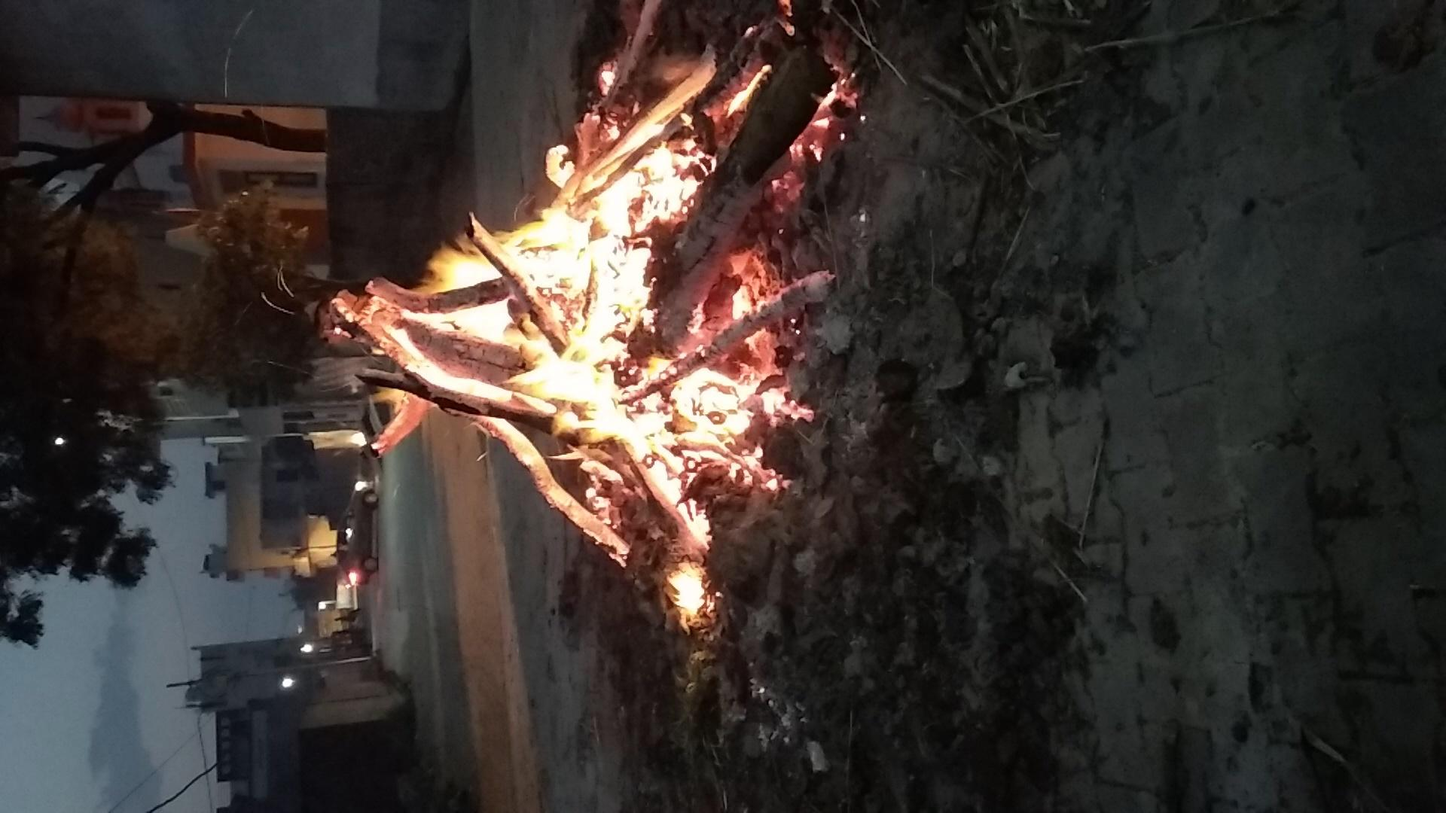fire: (431, 130, 1200, 457)
